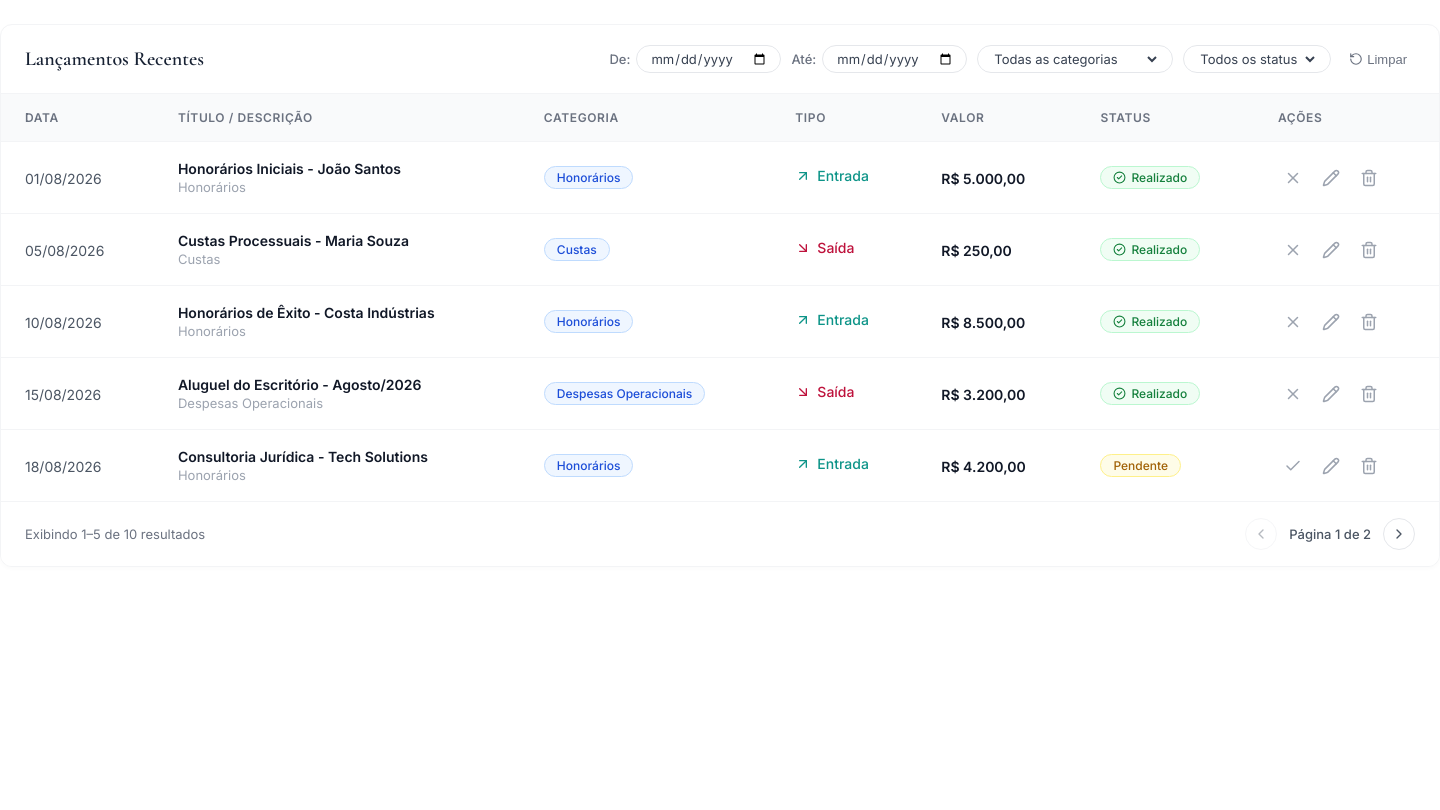
it: LancamentosTable › avança para a próxima página e volta
Expected: the button named "Página anterior" is disabled, [1245,518,1277,550]
Click the button named "Próxima página" at (1399, 534), box [1383,518,1415,550]
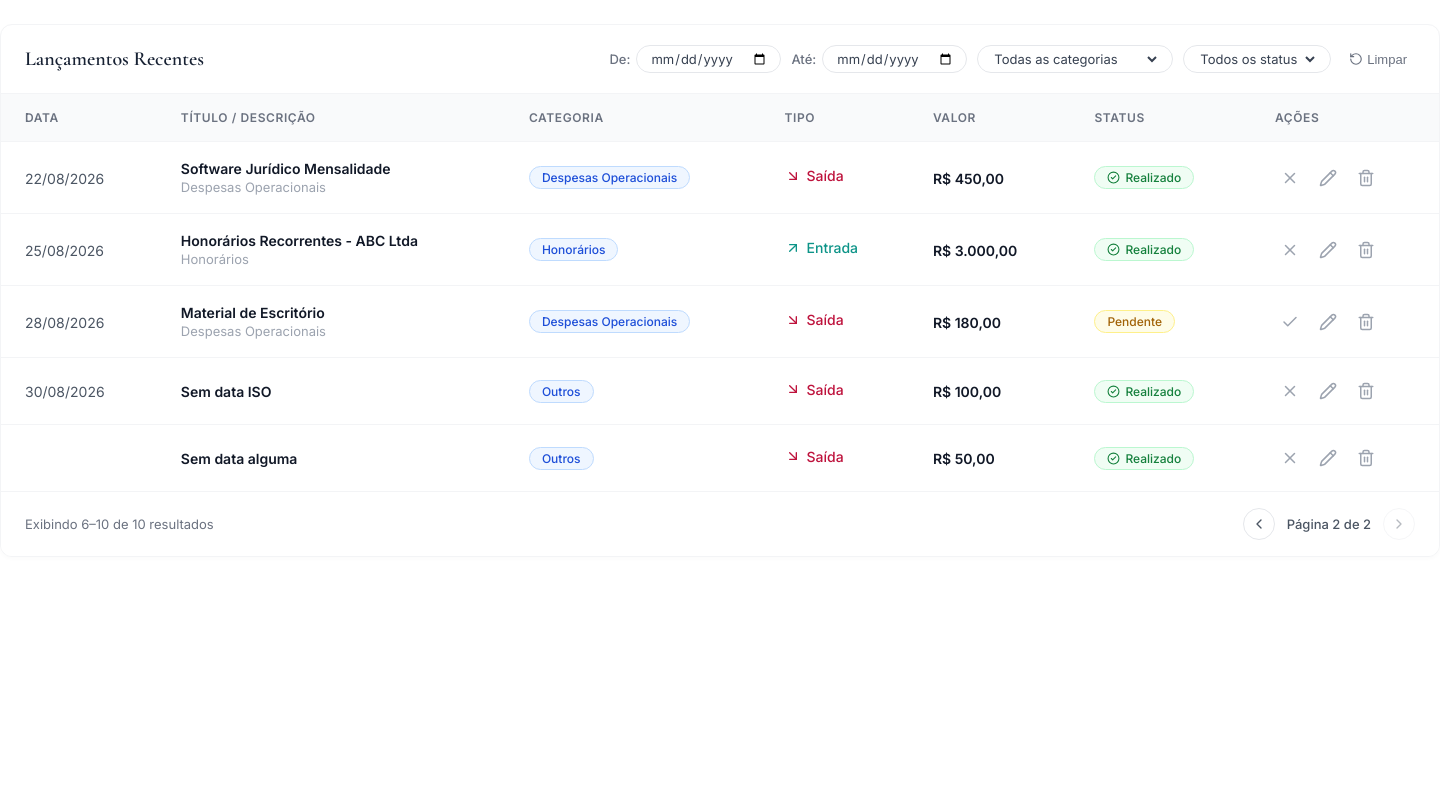
Result: the text "Página 2 de 2" is shown at [1287,516,1371,532]
Result: the text "Exibindo 6–10 de 10 resultados" is shown at [25,516,214,532]
Result: the text "Software Jurídico Mensalidade" is shown at [181,160,391,177]
Click the button named "Página anterior" at (1259, 524), box [1243,508,1275,540]
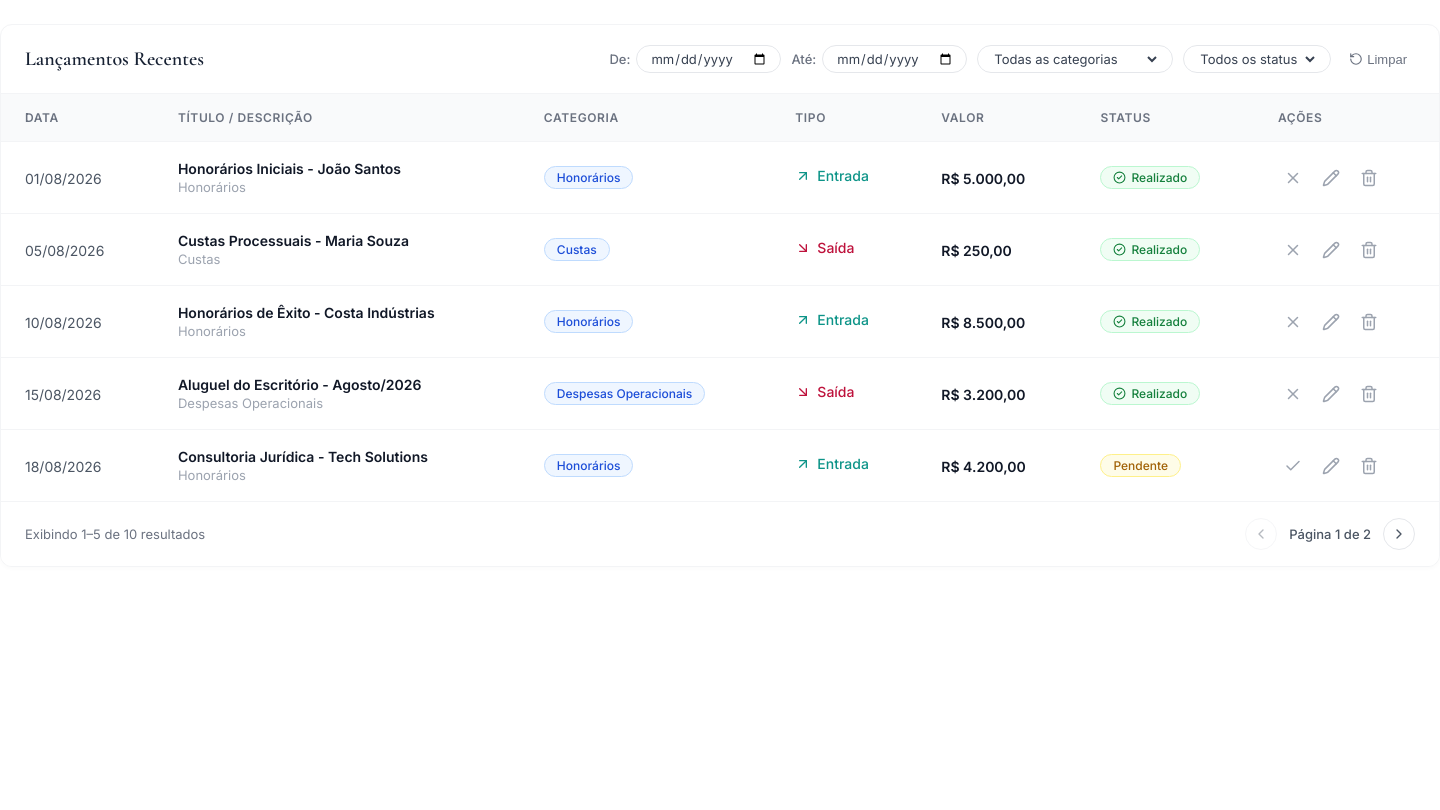
Result: the text "Página 1 de 2" is shown at [1289,526,1371,542]
